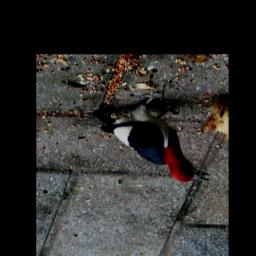Woodpecker: (85, 86, 215, 188)
